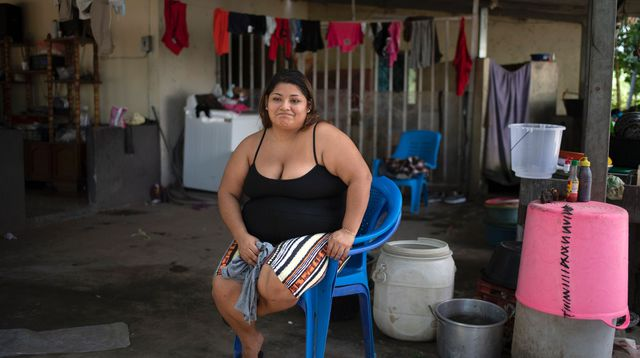without_mask: (270, 86, 307, 134)
